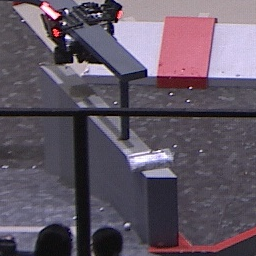Robot: (35, 1, 130, 67)
